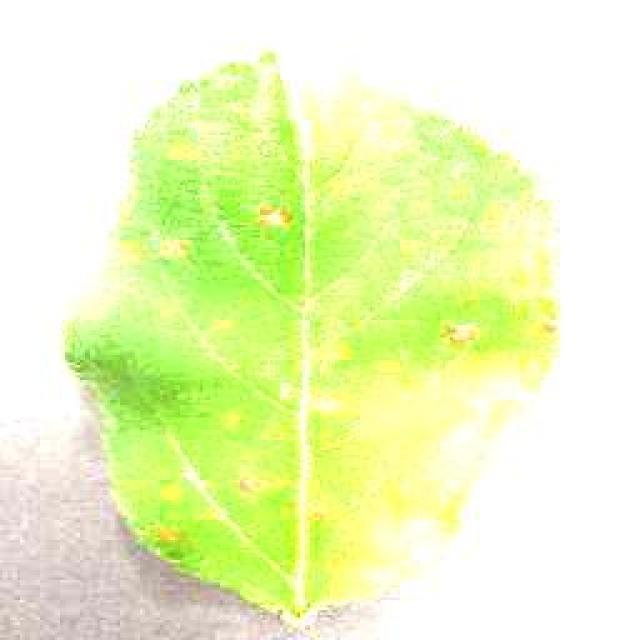apple rust disease: (60, 48, 562, 630)
